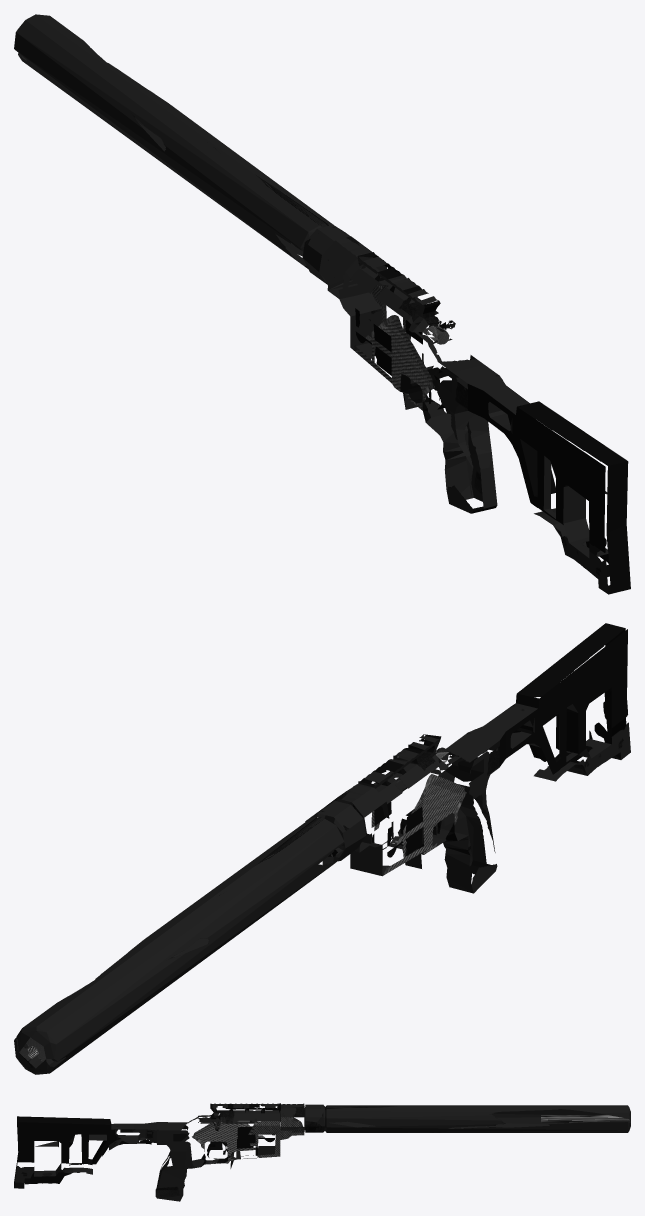
File: gun_high.fbx
3 renders of one model, top to bottom at view 1: azimuth 30°, elevation 25°; view 2: azimuth 150°, elevation 25°; view 3: azimuth 270°, elevation 25°, orthographic. The views are drawn at different scales.
Visible parts, largest first — view 1: GunFIXED1500, BarrelFIXED1500; view 2: GunFIXED1500, BarrelFIXED1500; view 3: GunFIXED1500, BarrelFIXED1500, leverFIXED1500.
Part boxes in pixels (left/top/right/bottom): GunFIXED1500: left=302, top=225, right=630, bottom=594; BarrelFIXED1500: left=14, top=14, right=333, bottom=268; GunFIXED1500: left=305, top=623, right=630, bottom=893; BarrelFIXED1500: left=14, top=817, right=344, bottom=1074; GunFIXED1500: left=14, top=1103, right=324, bottom=1201; BarrelFIXED1500: left=325, top=1105, right=630, bottom=1132; leverFIXED1500: left=199, top=1116, right=256, bottom=1130.
Bounding box in the file's own units: 23.92 × 77.82 × 467.
1 material, 1 textured.
